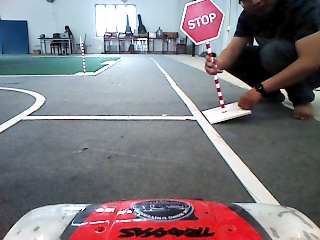stop: (180, 1, 224, 44)
